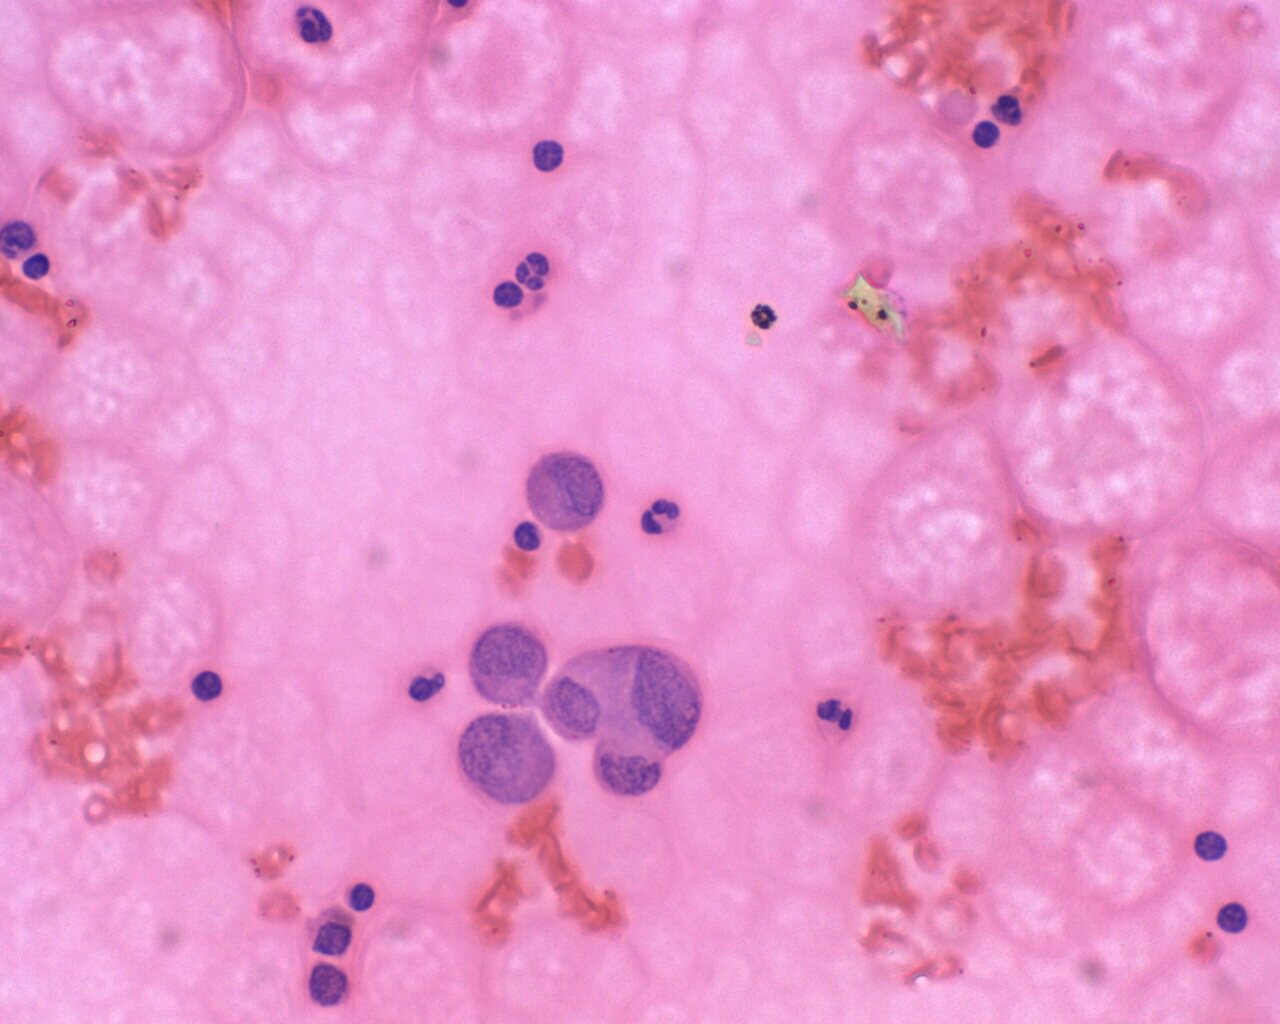ab: (451, 714, 555, 808), (467, 622, 550, 708), (527, 448, 607, 537)
lymph: (184, 665, 233, 709), (1189, 822, 1237, 867), (342, 877, 380, 920), (961, 115, 1002, 153)
neutro: (633, 487, 686, 542), (512, 245, 552, 299)
